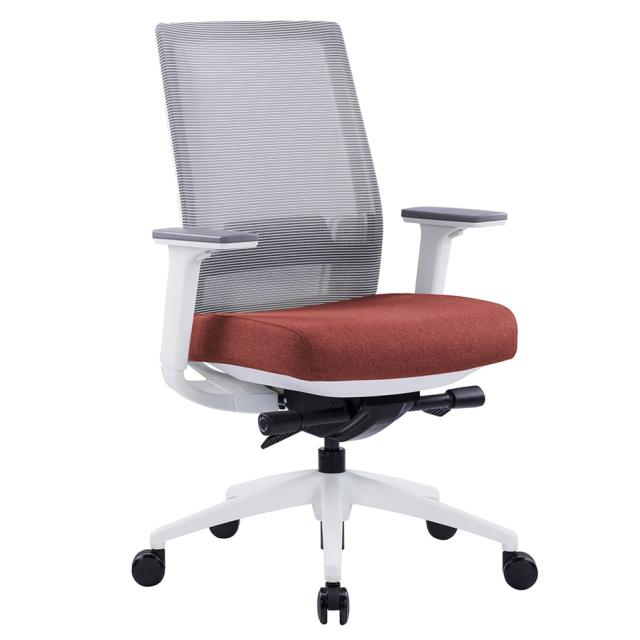chair: (131, 19, 539, 626)
